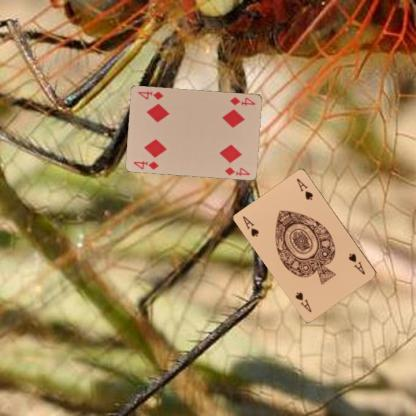4d: (228, 94, 257, 107), (131, 158, 160, 170)
As: (346, 251, 367, 276), (240, 213, 260, 238)
